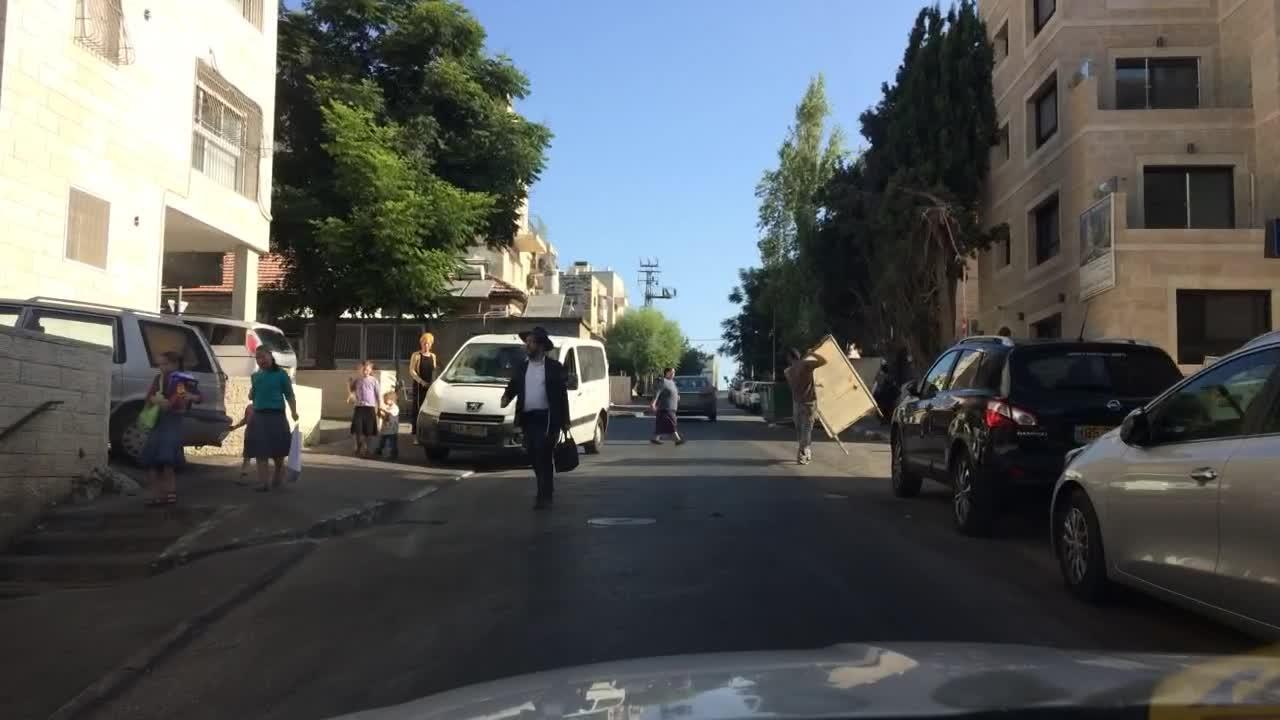Nissan: (1101, 393, 1130, 417)
